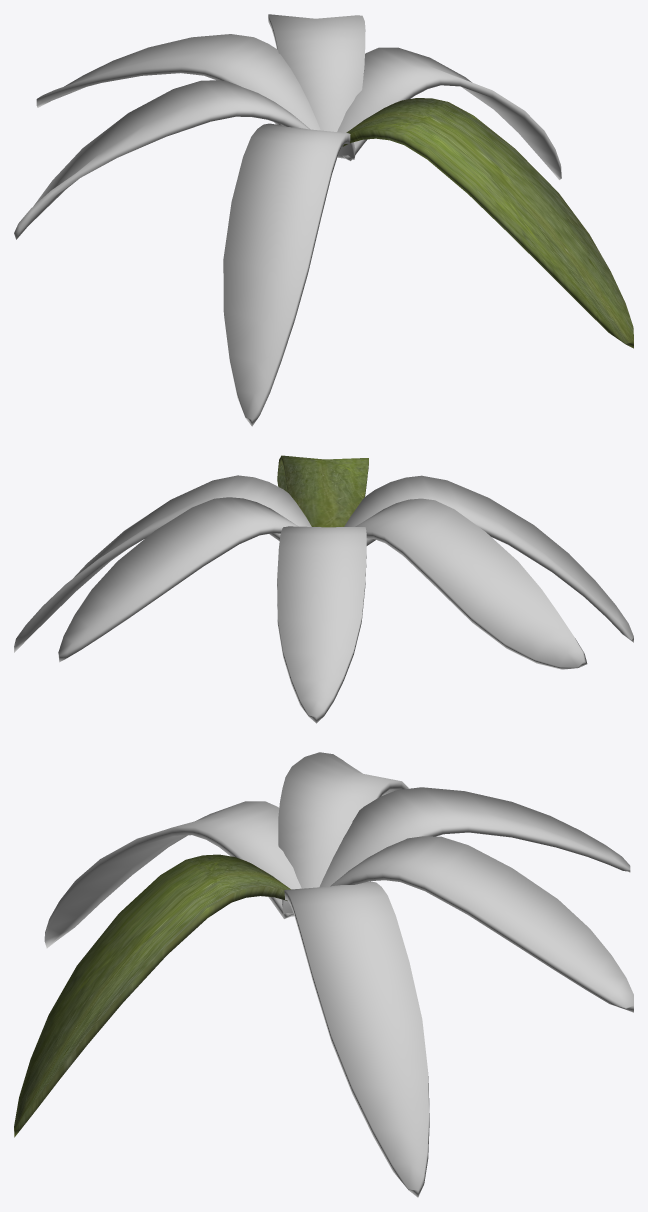
File: calyx10_1000.dae
3 renders of one model, top to bottom at view 1: azimuth 30°, elevation 25°; view 2: azimuth 150°, elevation 25°; view 3: azimuth 270°, elevation 25°, orthographic. The views are drawn at different scales.
Parts seen in each view (by area): view 1: calyx9_002, calyx9_001, calyx8_002, calyx6_002, calyx6_003, calyx9; view 2: calyx8_002, calyx6_002, calyx6_003, calyx9_002, calyx9, calyx9_001; view 3: calyx9, calyx9_001, calyx6_003, calyx6_002, calyx9_002, calyx8_002.
Boxes of the visible parts, x1,y1,x2,y2 form: calyx9_002: (223,123,355,426); calyx9_001: (342,98,633,348); calyx8_002: (14,80,338,239); calyx6_002: (36,34,320,130); calyx6_003: (268,14,365,131); calyx9: (337,47,561,179); calyx8_002: (355,498,587,669); calyx6_002: (277,526,366,723); calyx6_003: (58,497,298,662); calyx9_002: (344,475,633,642); calyx9: (14,475,311,652); calyx9_001: (277,455,368,527); calyx9: (282,881,429,1197); calyx9_001: (14,854,290,1137); calyx6_003: (330,836,633,1012); calyx6_002: (319,787,630,887); calyx9_002: (44,801,301,948); calyx8_002: (278,752,408,888).
Bounding box in the file's own units: 0.1304 × 0.115 × 0.0455.
